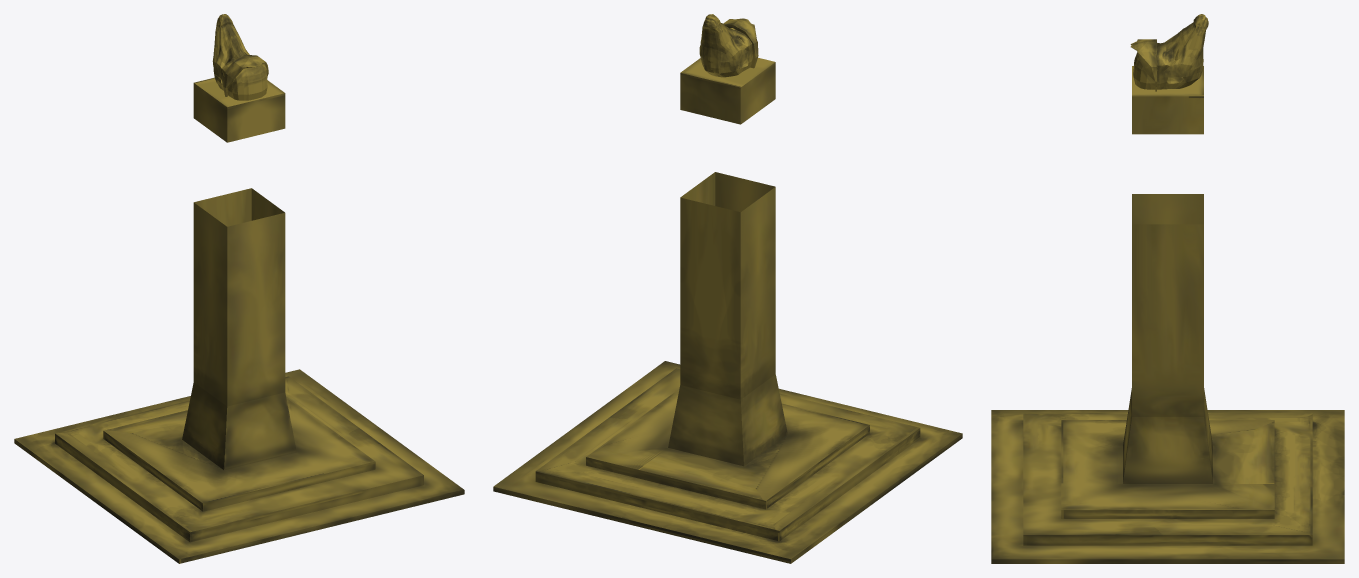
File: f_pole_with_head.fbx
The picture shows the model from 3 angles, left to right: view 1: azimuth 30°, elevation 25°; view 2: azimuth 150°, elevation 25°; view 3: azimuth 270°, elevation 25°; orthographic projection. The views are drawn at different scales.
Parts seen in each view (by area): view 1: Circle.003; view 2: Circle.003; view 3: Circle.003.
Boxes of the visible parts, bbox=[...] form: Circle.003: bbox=[14, 14, 464, 563]; Circle.003: bbox=[493, 14, 962, 563]; Circle.003: bbox=[991, 14, 1344, 563].
Size of the model in its own units: 543 by 806 by 543.
